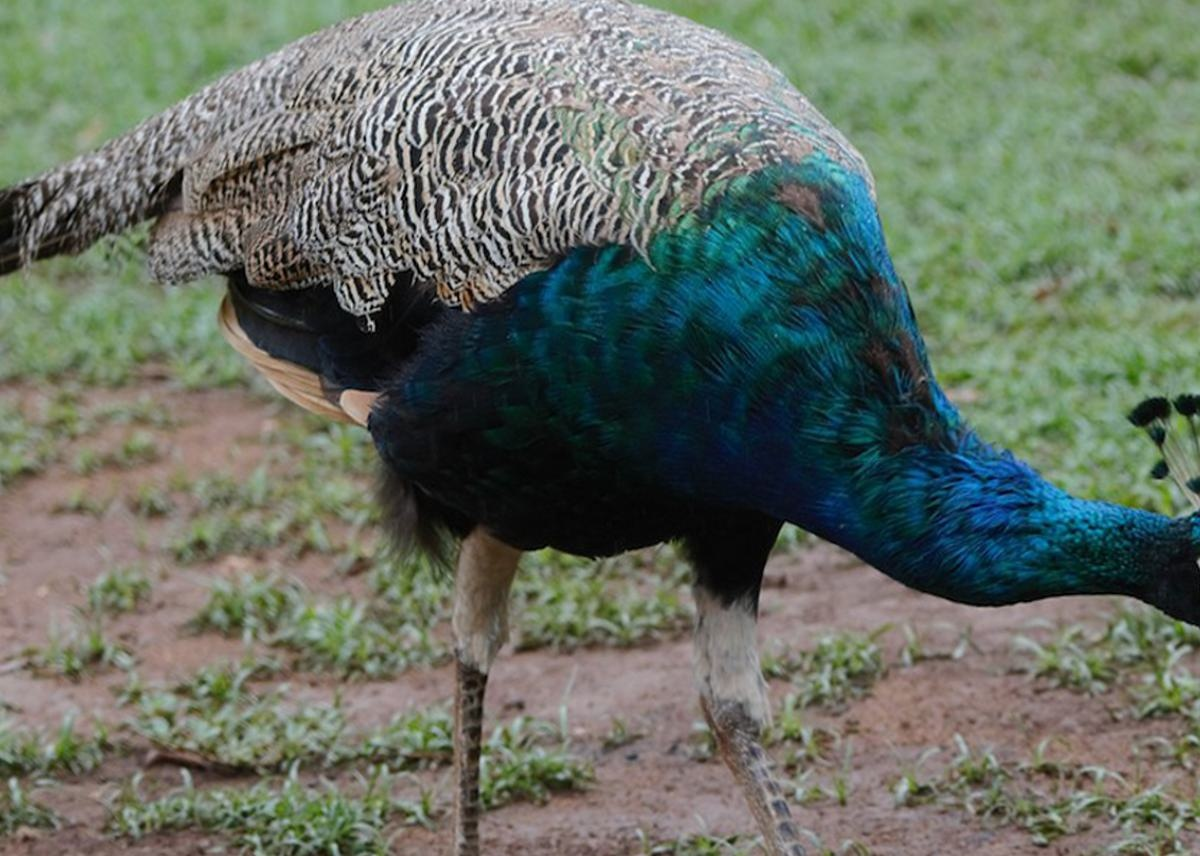peacock: (166, 45, 1200, 836)
